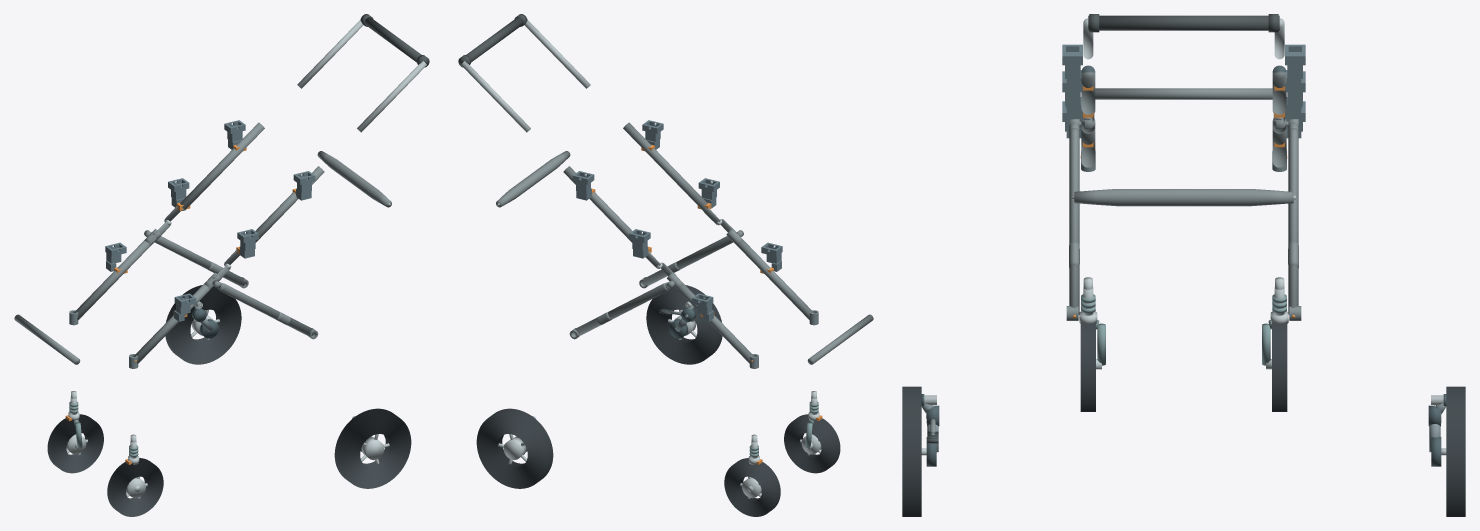
The model's file is w550_state6_wheel_M.glb.
The picture shows the model from 3 angles, left to right: view 1: azimuth 30°, elevation 25°; view 2: azimuth 150°, elevation 25°; view 3: azimuth 270°, elevation 25°; orthographic projection. The views are drawn at different scales.
Visible parts, largest first — view 1: RL_tire.007, RR_tire.007, FL_tire.007, FR_tire.007, main_upper_1.008, main_lower_1.008, V46_rearbar.008, V46_rear_leg_-1.008, V46_rear_leg_1.008, main_lower_-1.008, round_handle.007, handle_slider_-1.007 (+5 smaller); view 2: RR_tire.007, RL_tire.007, FR_tire.007, FL_tire.007, main_upper_-1.008, main_lower_-1.008, V46_rearbar.008, V46_rear_leg_1.008, V46_rear_leg_-1.008, main_lower_1.008, round_handle.007, handle_slider_1.007 (+5 smaller); view 3: V46_rearbar.008, round_handle.007, RL_tire.007, RR_tire.007, front_fixed_round_tube.007, V46_rear_leg_1.008, V46_rear_leg_-1.008, FL_tire.007, FR_tire.007, Universal_Cabin_Receiver_H_1, Universal_Cabin_Receiver_H_-1.
Part boxes in pixels (x1,y1,x2,y2): RL_tire.007: (334,408,411,488); RR_tire.007: (165,285,241,364); FL_tire.007: (107,458,163,516); FR_tire.007: (47,414,103,473); main_upper_1.008: (180,122,264,210); main_lower_1.008: (73,238,155,320); V46_rearbar.008: (317,151,391,207); V46_rear_leg_-1.008: (219,283,313,335); V46_rear_leg_1.008: (154,236,245,286); main_lower_-1.008: (133,284,212,363); round_handle.007: (364,17,428,66); handle_slider_-1.007: (357,61,426,132); RR_tire.007: (476,408,553,488); RL_tire.007: (646,285,722,364); FR_tire.007: (724,458,780,516); FL_tire.007: (784,414,840,473); main_upper_-1.008: (623,122,707,210); main_lower_-1.008: (732,238,814,320); V46_rearbar.008: (496,151,570,207); V46_rear_leg_1.008: (574,283,668,335); V46_rear_leg_-1.008: (642,236,733,286); main_lower_1.008: (675,284,754,363); round_handle.007: (459,17,523,66); handle_slider_1.007: (461,61,530,132); V46_rearbar.008: (1074,189,1293,206); round_handle.007: (1088,15,1279,30); RL_tire.007: (902,386,921,516); RR_tire.007: (1446,386,1465,516); front_fixed_round_tube.007: (1095,88,1272,99); V46_rear_leg_1.008: (1288,128,1298,314); V46_rear_leg_-1.008: (1069,128,1079,314); FL_tire.007: (1080,322,1095,411); FR_tire.007: (1272,322,1287,411); Universal_Cabin_Receiver_H_1: (1285,44,1305,90); Universal_Cabin_Receiver_H_-1: (1062,44,1082,90).
Size of the model in its own units: 1.51 by 1.57 by 1.3.
